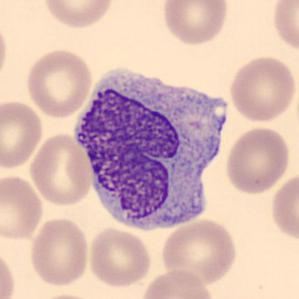Monocyte: (70, 61, 233, 240)
RBC: (160, 216, 240, 285), (23, 46, 95, 118), (27, 131, 94, 208), (222, 124, 292, 196), (227, 54, 298, 124), (28, 215, 90, 288), (86, 226, 154, 289), (0, 98, 45, 172), (160, 0, 230, 47), (0, 173, 46, 242), (139, 267, 214, 299), (268, 170, 298, 244), (41, 0, 115, 30), (270, 0, 298, 55), (0, 247, 17, 299), (0, 18, 10, 88), (32, 292, 100, 299)
